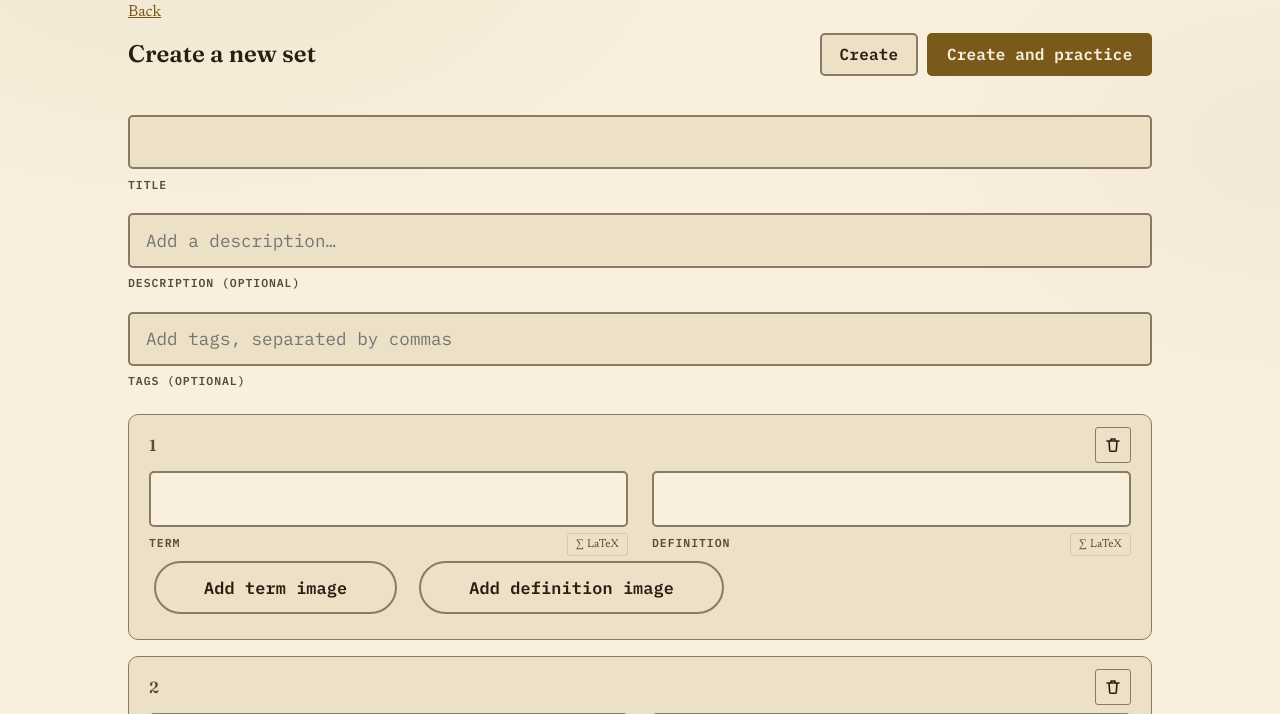
it: LaTeX in the card editor › inserts $..$ around the caret and leaves the caret inside
What coordinates should you click on to do the following:
click the text box named "Term for card 1"
I would click on:
 (388, 499)
Its box is [149, 471, 628, 527].
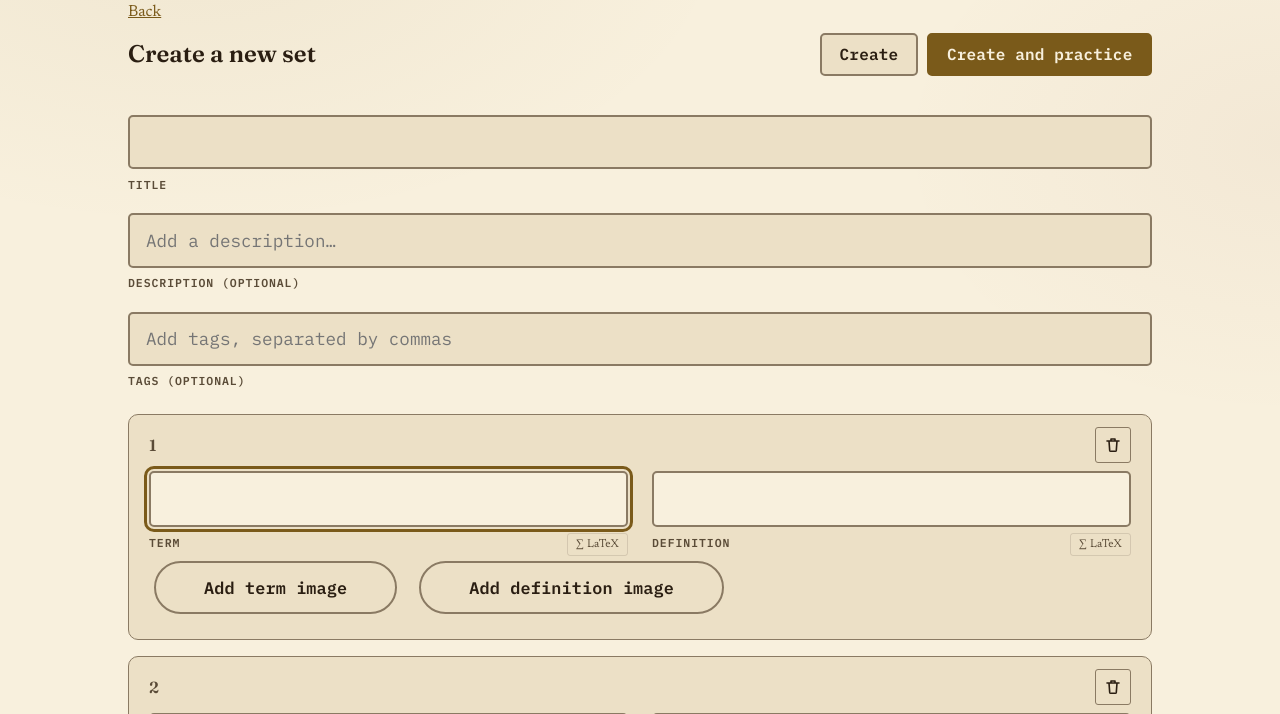
What coordinates should you click on to do the following:
click the button with aria-label "Insert a LaTeX formula in the term for card 1"
I would click on:
 (598, 545)
Its box is [567, 533, 628, 556].
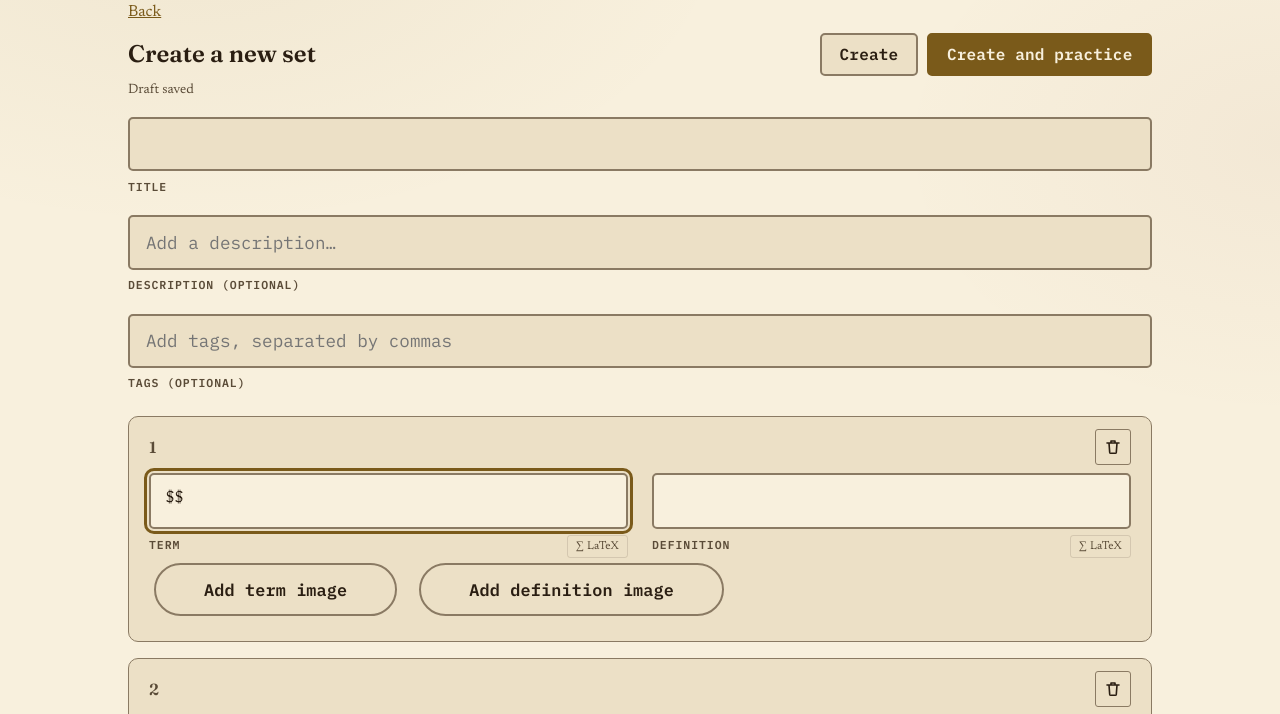
Expected: the text box named "Term for card 1" holds "$$", [149, 473, 628, 529]
